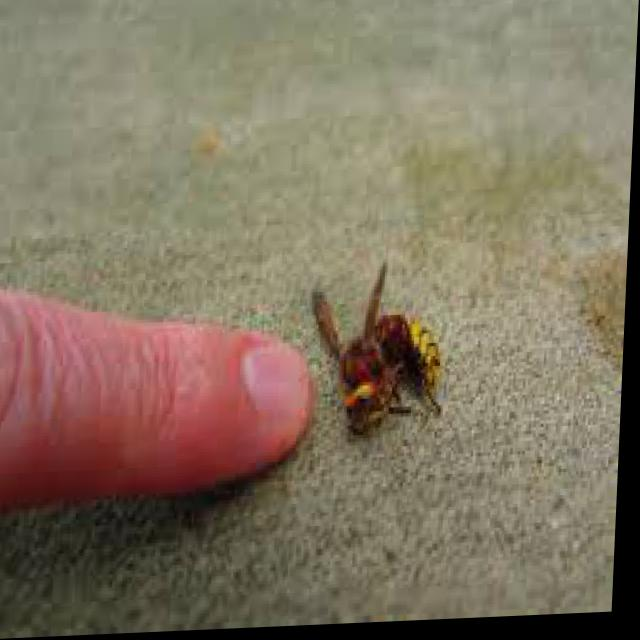Vespa Crabro: (316, 257, 476, 457)
